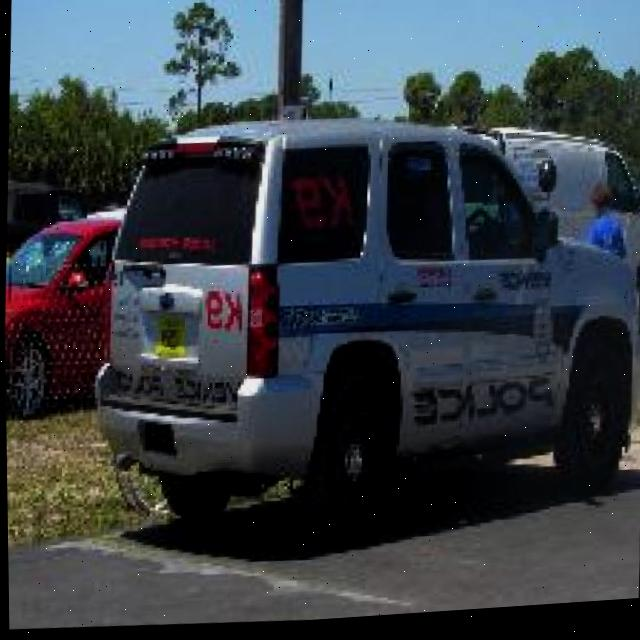emergency: (80, 80, 640, 553)
